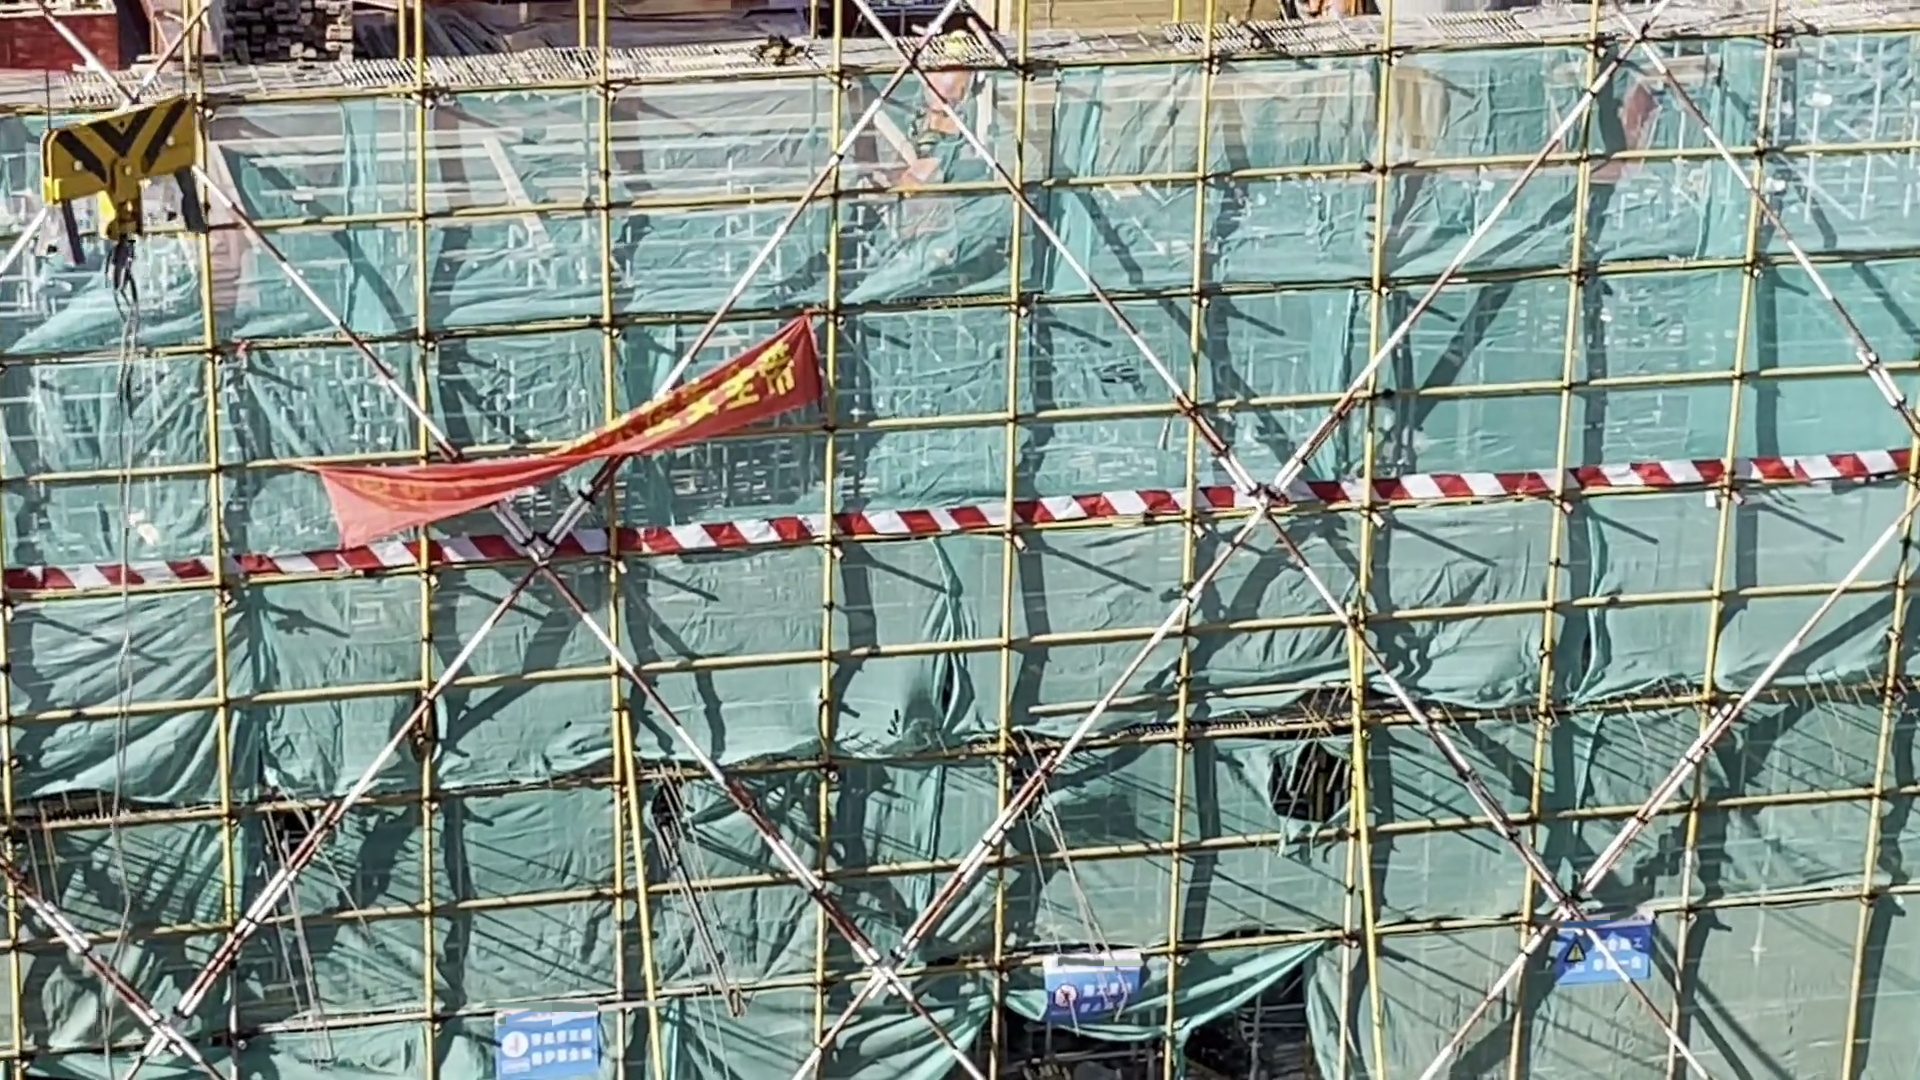slogan: (316, 310, 835, 556)
wood: (193, 11, 373, 65)
